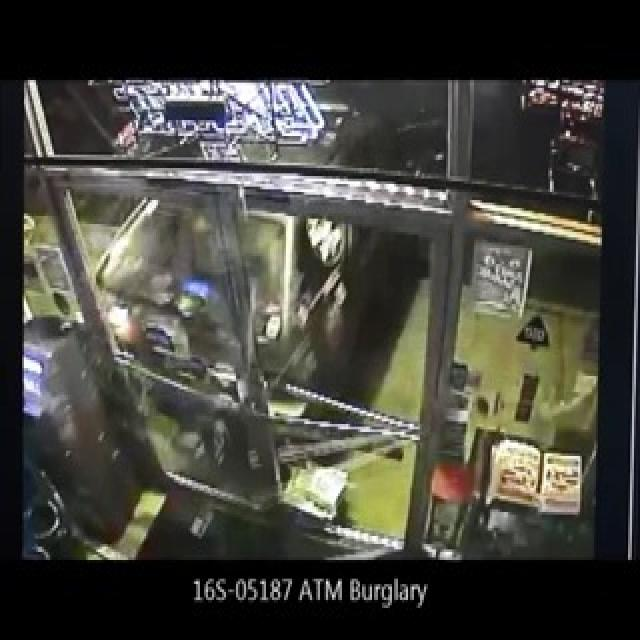burglary: (96, 141, 385, 463)
